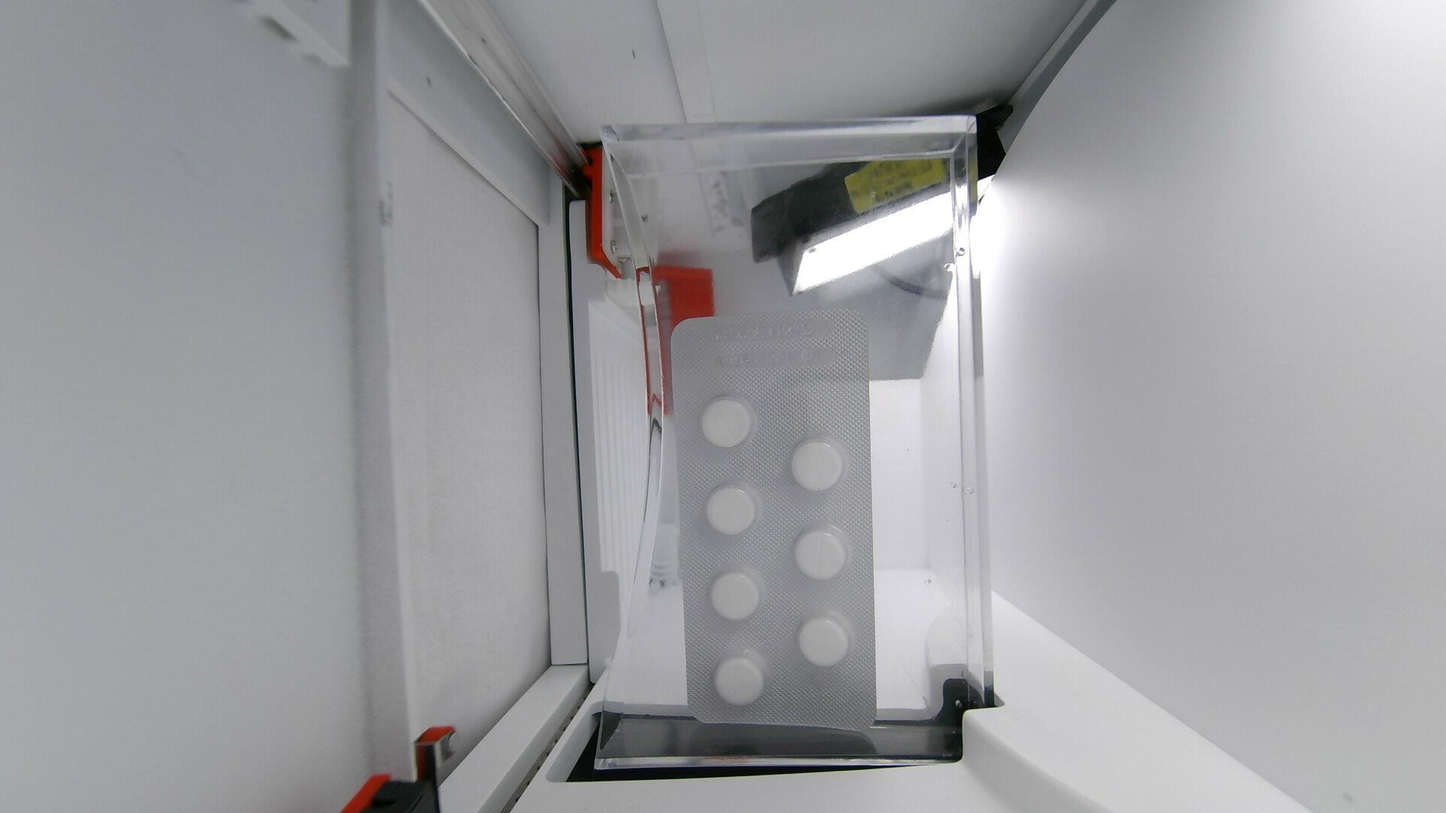Light Front: (673, 311, 876, 729)
Pill Front: (794, 525, 850, 580), (791, 437, 847, 491), (797, 613, 850, 668), (706, 485, 760, 535), (703, 398, 752, 446), (715, 656, 764, 704), (711, 572, 759, 620)
